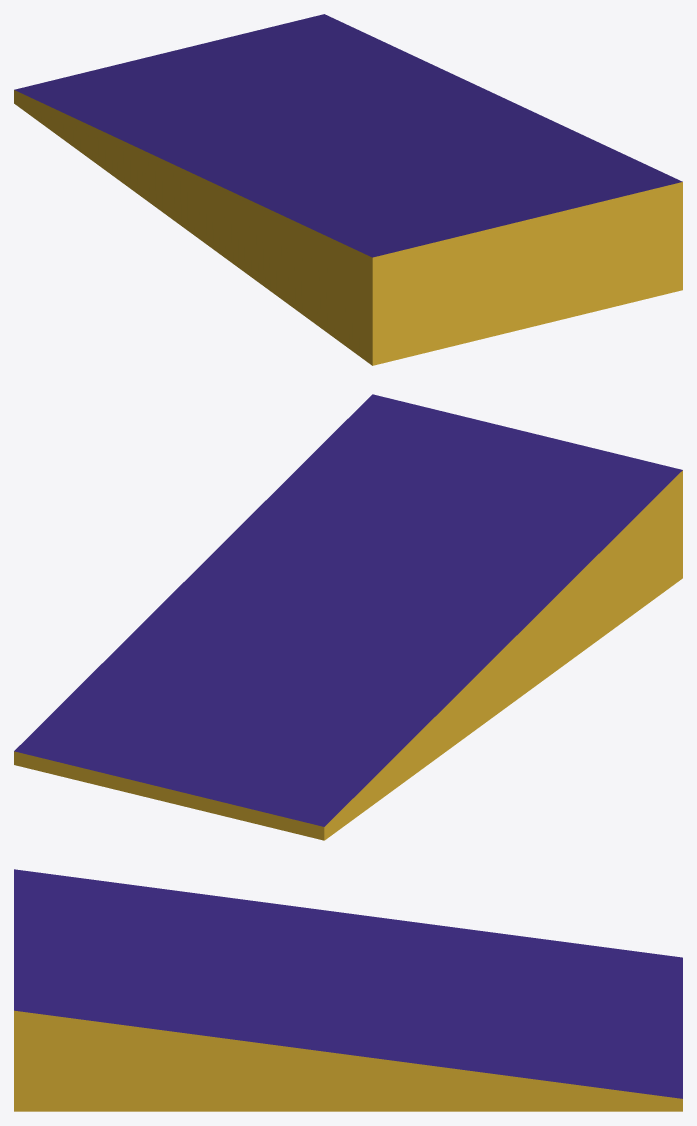
Rendered from sm_downPlatform_1 1.fbx.
3 views of the same model, one above another, from view 1: azimuth 30°, elevation 25°; view 2: azimuth 150°, elevation 25°; view 3: azimuth 270°, elevation 25° (orthographic). The views are drawn at different scales.
Visible parts, largest first — view 1: pCube1; view 2: pCube1; view 3: pCube1.
Part boxes in pixels (box(x1,y1,x2,y2)): pCube1: box(14, 14, 682, 365); pCube1: box(14, 394, 682, 840); pCube1: box(14, 869, 682, 1111).
Bounding box in the file's own units: 300 × 100 × 600.
